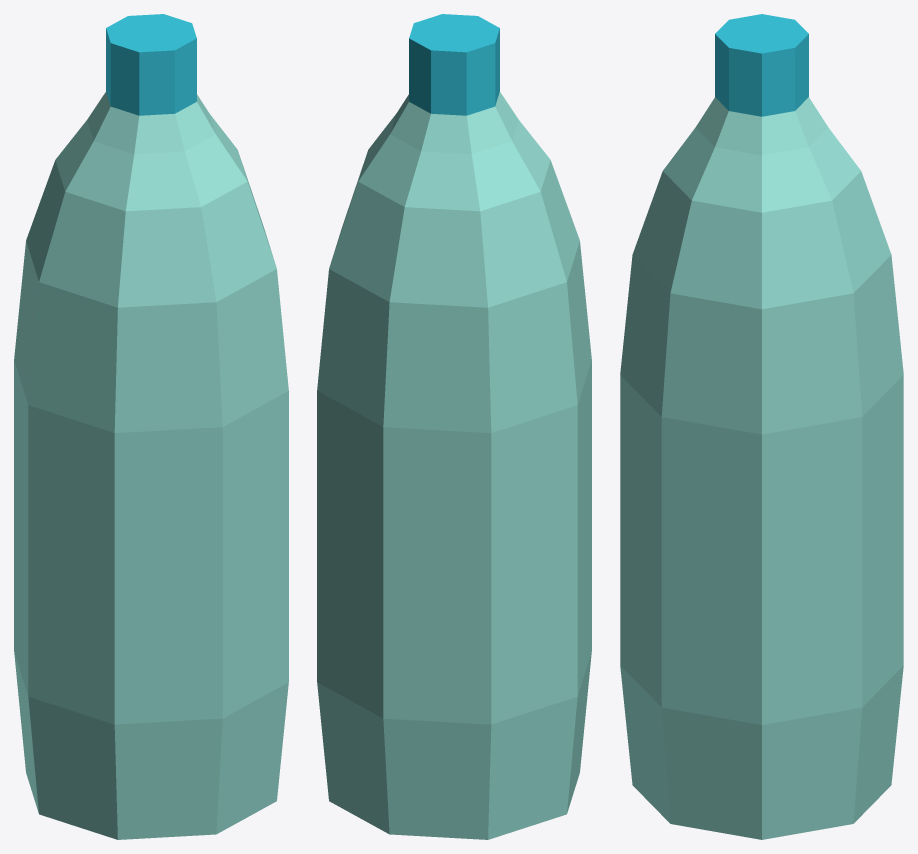
The model's file is bottle.fbx.
3 views of the same model, side by side, from view 1: azimuth 30°, elevation 25°; view 2: azimuth 150°, elevation 25°; view 3: azimuth 270°, elevation 25° (orthographic).
Visible parts, largest first — view 1: Bottle; view 2: Bottle; view 3: Bottle.
Boxes of the visible parts, x1,y1,x2,y2 form: Bottle: (14, 14, 288, 839); Bottle: (317, 14, 591, 839); Bottle: (620, 14, 903, 839).
Bounding box in the file's own units: 0.6535 × 1.91 × 0.6535.
